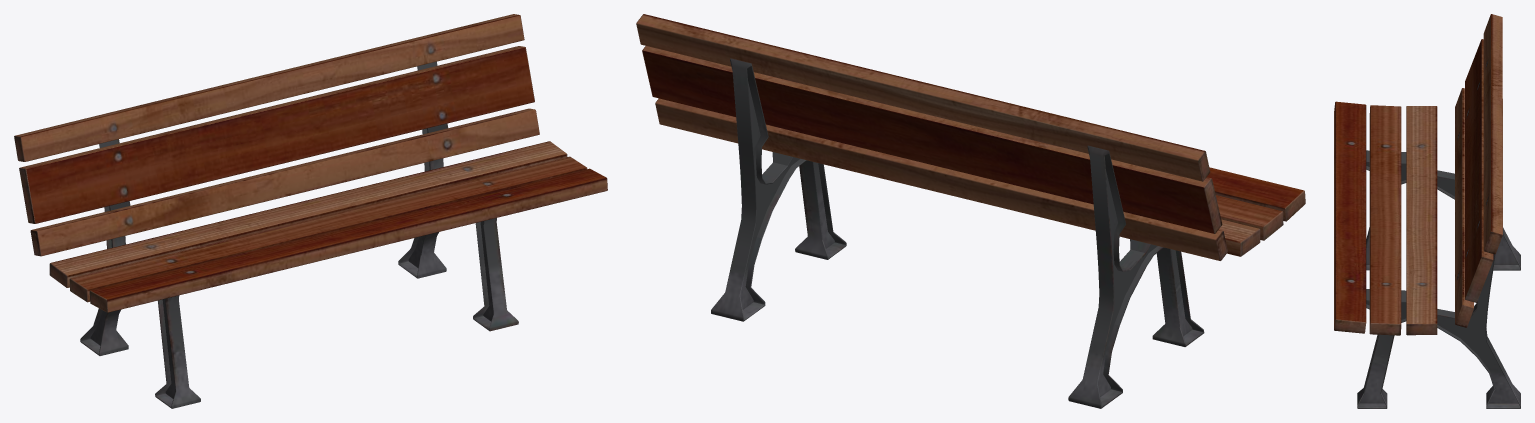
File: bench.glb
3 renders of one model, left to right at view 1: azimuth 30°, elevation 25°; view 2: azimuth 150°, elevation 25°; view 3: azimuth 270°, elevation 25°, orthographic. The views are drawn at different scales.
Parts seen in each view (by area): view 1: Cube.002, Cube.001, Cube.003; view 2: Cube.002, Cube.001, Cube.003; view 3: Cube.002, Cube.001, Cube.003.
Boxes of the visible parts, x1,y1,x2,y2 form: Cube.002: (15, 14, 607, 312); Cube.001: (80, 61, 518, 408); Cube.003: (14, 15, 607, 312); Cube.002: (636, 14, 1303, 260); Cube.001: (711, 58, 1204, 408); Cube.003: (636, 14, 1305, 260); Cube.002: (1334, 14, 1502, 330); Cube.001: (1357, 150, 1520, 408); Cube.003: (1334, 101, 1502, 335).
Size of the model in its own units: 2 by 0.8992 by 0.723.
3 materials, 3 textured.
